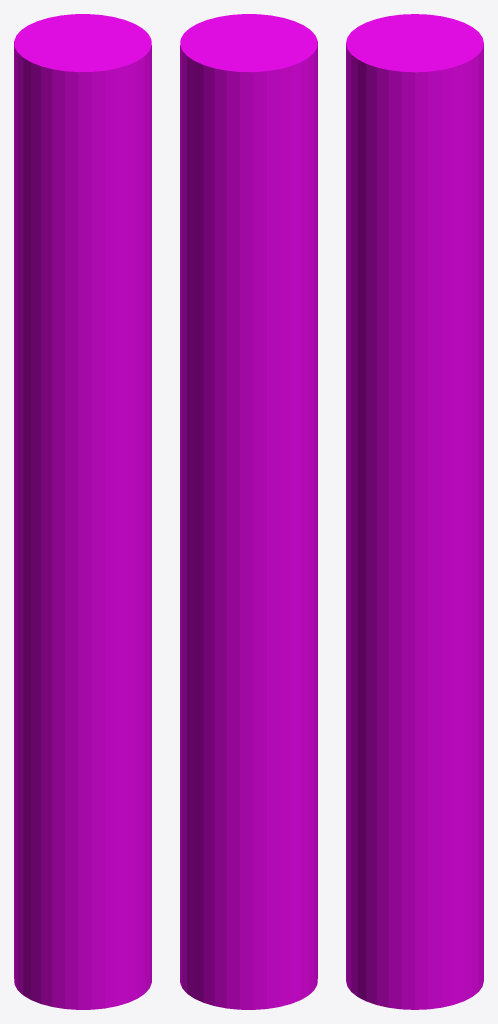
The model's file is cylinder_pink.glb.
3 views of the same model, side by side, from view 1: azimuth 30°, elevation 25°; view 2: azimuth 150°, elevation 25°; view 3: azimuth 270°, elevation 25° (orthographic).
Visible parts, largest first — view 1: Cylinder; view 2: Cylinder; view 3: Cylinder.
Boxes of the visible parts, bbox=[...] form: Cylinder: bbox=[14, 14, 151, 1009]; Cylinder: bbox=[180, 14, 317, 1009]; Cylinder: bbox=[346, 14, 483, 1009].
Bounding box in the file's own units: 0.2 × 1.5 × 0.2.
